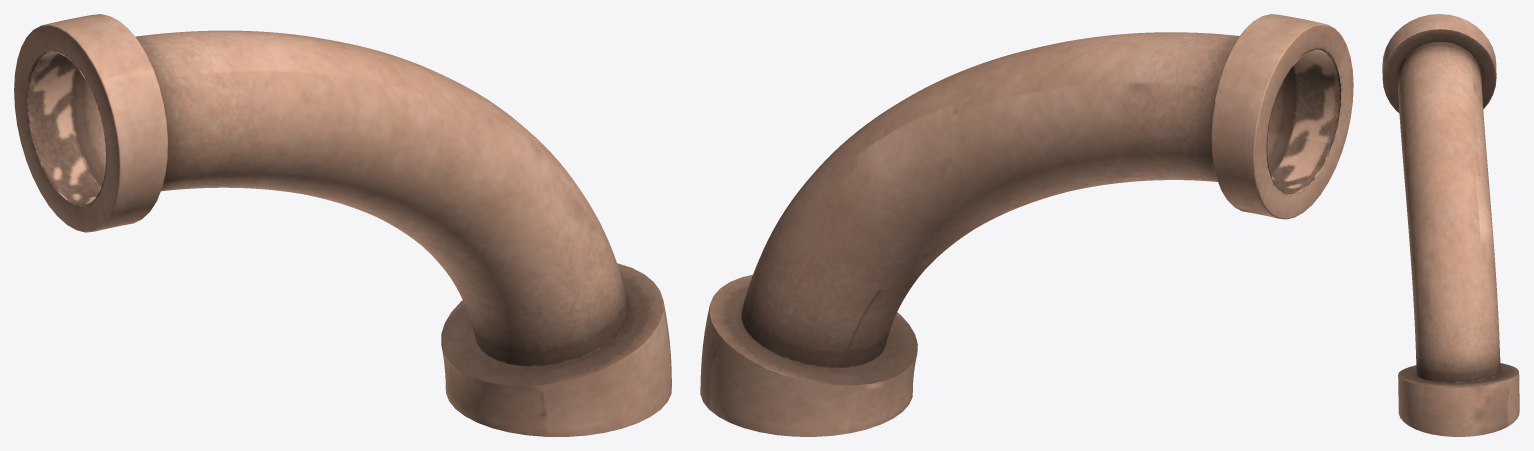
The model's file is _Wallpipe1.fbx.
The picture shows the model from 3 angles, left to right: view 1: azimuth 30°, elevation 25°; view 2: azimuth 150°, elevation 25°; view 3: azimuth 270°, elevation 25°; orthographic projection. The views are drawn at different scales.
Parts seen in each view (by area): view 1: Wallpipe.002; view 2: Wallpipe.002; view 3: Wallpipe.002.
Boxes of the visible parts, left/top/right/bottom form: Wallpipe.002: left=14, top=14, right=671, bottom=436; Wallpipe.002: left=700, top=14, right=1353, bottom=436; Wallpipe.002: left=1382, top=14, right=1519, bottom=436.
Bounding box in the file's own units: 17282 × 13437 × 6304.
